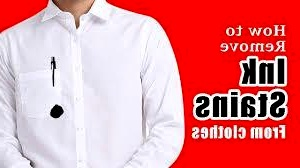ink: (50, 105, 64, 118)
